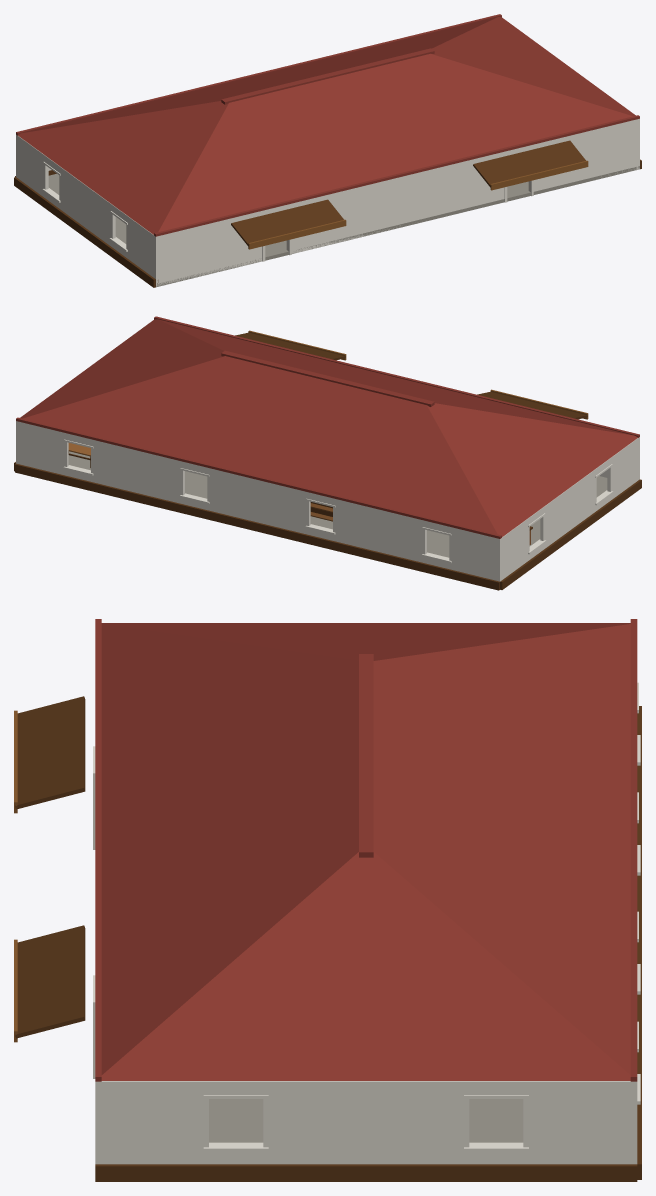
File: shop_row.glb
3 renders of one model, top to bottom at view 1: azimuth 30°, elevation 25°; view 2: azimuth 150°, elevation 25°; view 3: azimuth 270°, elevation 25°, orthographic. The views are drawn at different scales.
Parts seen in each view (by area): view 1: shop_row; view 2: shop_row; view 3: shop_row.
Boxes of the visible parts, bbox=[...] form: shop_row: bbox=[14, 14, 641, 287]; shop_row: bbox=[14, 316, 641, 590]; shop_row: bbox=[14, 619, 641, 1181].
Bounding box in the file's own units: 30.26 × 6.04 × 17.38.
